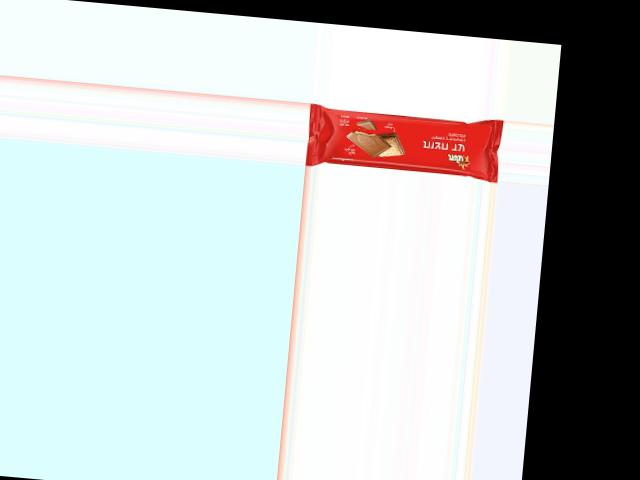chocolate: (307, 101, 498, 182)
